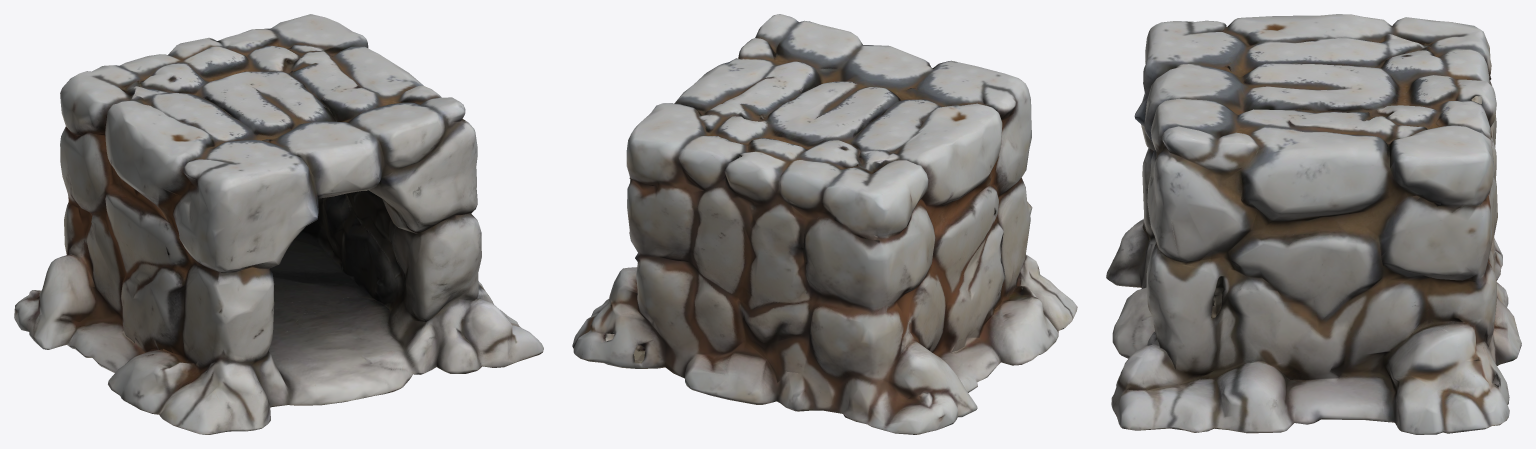
The model's file is blk_cave_exit.glb.
3 renders of one model, left to right at view 1: azimuth 30°, elevation 25°; view 2: azimuth 150°, elevation 25°; view 3: azimuth 270°, elevation 25°, orthographic. The views are drawn at different scales.
Bounding box in the file's own units: 2 × 1.25 × 1.76.
Materials: 1 (1 with a texture image).
